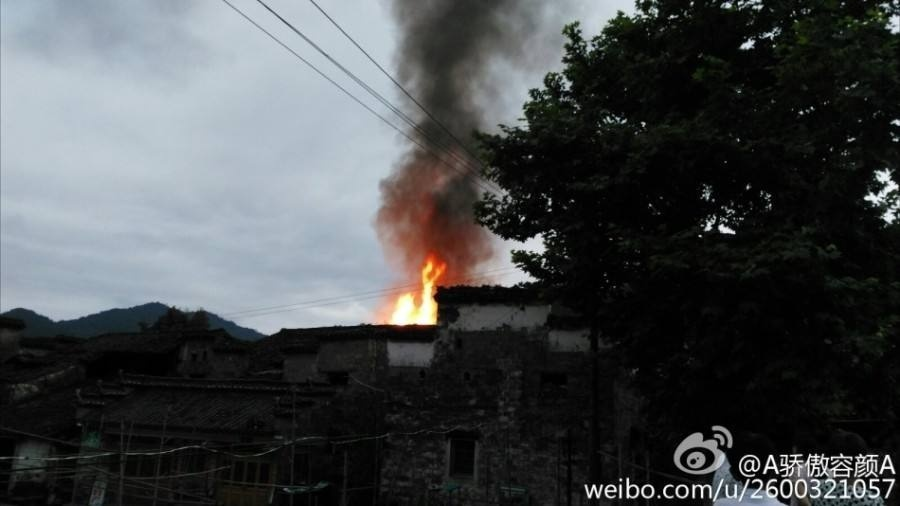fire: (379, 256, 442, 327)
